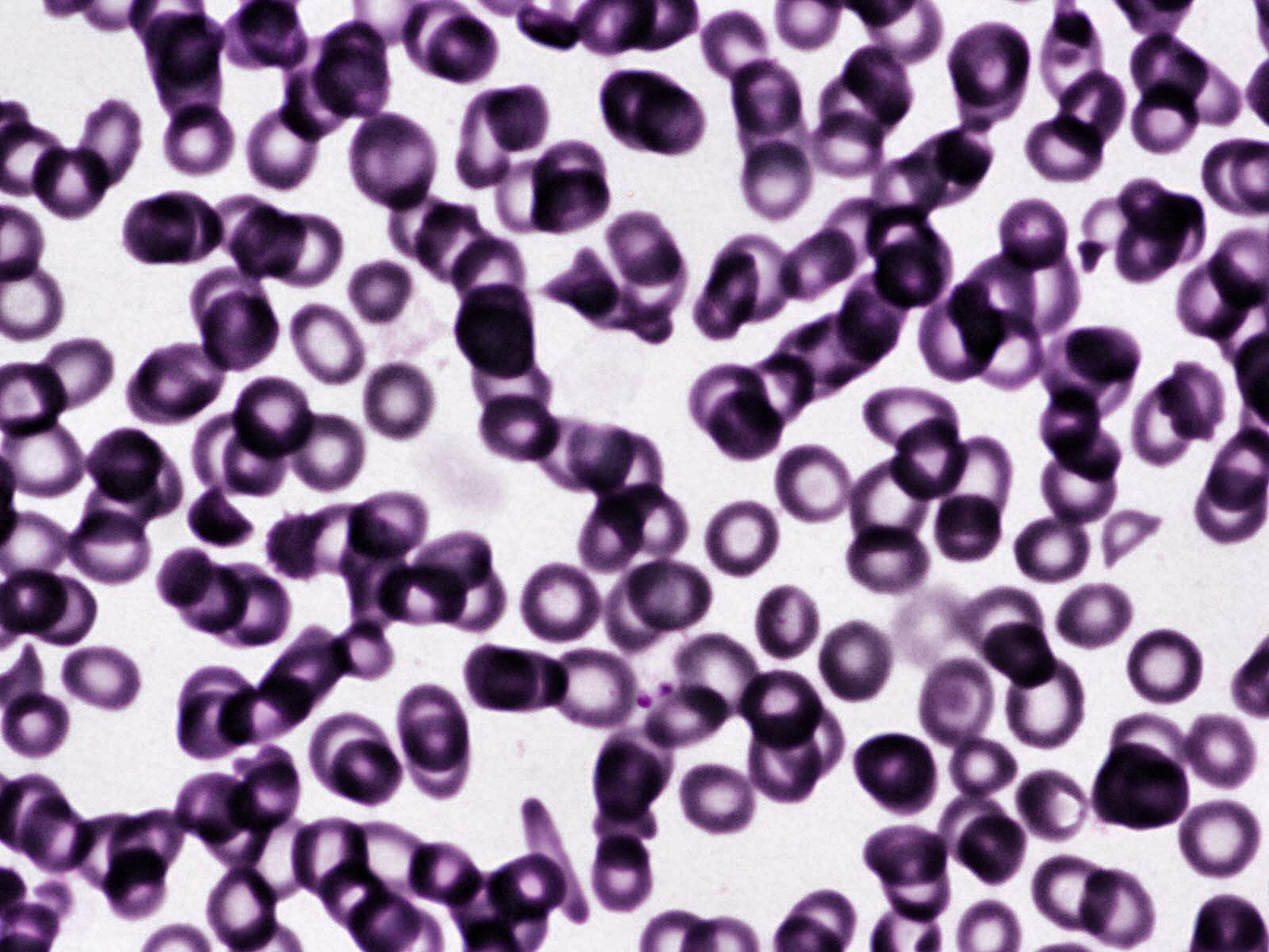Infected: (618, 625, 698, 715)
Uninfected: (346, 107, 438, 213), (918, 281, 1007, 386), (994, 238, 1083, 340), (1001, 651, 1087, 753), (1091, 742, 1191, 829), (194, 409, 288, 501), (950, 248, 1037, 346), (1174, 792, 1264, 883), (261, 631, 351, 722), (337, 822, 440, 901), (1033, 851, 1124, 940), (517, 559, 607, 648), (277, 406, 367, 495), (736, 132, 822, 225), (796, 308, 899, 385), (454, 282, 537, 377), (851, 730, 940, 818), (1037, 0, 1104, 115), (862, 386, 961, 463), (917, 658, 998, 752), (847, 458, 928, 551), (550, 644, 636, 731), (707, 235, 792, 323), (136, 336, 229, 416), (676, 633, 761, 720), (774, 440, 858, 528), (963, 304, 1045, 393), (205, 861, 286, 951), (592, 430, 663, 532), (228, 375, 316, 457), (286, 300, 367, 389), (816, 615, 896, 705), (939, 435, 1012, 533), (1175, 252, 1259, 337), (701, 496, 784, 582), (311, 709, 392, 797), (415, 200, 495, 289), (61, 509, 151, 588), (1018, 112, 1114, 186), (949, 21, 1031, 107), (287, 816, 367, 904), (845, 517, 928, 601), (2, 415, 85, 499), (243, 812, 317, 905), (358, 358, 437, 445), (739, 667, 822, 749), (1125, 626, 1206, 710), (190, 265, 270, 350), (454, 90, 524, 187), (585, 824, 663, 911), (216, 676, 317, 743), (1052, 67, 1125, 159), (109, 437, 187, 523), (477, 390, 566, 465), (677, 758, 759, 839), (31, 331, 115, 410), (734, 92, 811, 178), (814, 194, 890, 281), (1015, 767, 1098, 846), (960, 588, 1046, 664), (337, 520, 410, 609), (200, 292, 281, 372), (602, 67, 682, 148), (174, 773, 258, 850), (750, 711, 819, 804), (76, 812, 156, 892), (699, 10, 775, 94), (1159, 54, 1244, 129), (1111, 716, 1196, 791), (71, 98, 141, 189), (299, 501, 385, 575), (27, 144, 109, 221), (819, 69, 903, 144), (59, 642, 144, 716), (692, 360, 771, 439), (626, 559, 712, 631), (397, 684, 468, 771), (1054, 580, 1138, 653), (471, 347, 555, 420), (105, 808, 184, 885), (83, 466, 162, 543), (1115, 200, 1189, 282), (870, 151, 952, 225), (1129, 379, 1198, 466), (207, 566, 279, 649), (895, 418, 965, 503), (608, 211, 684, 289), (1132, 33, 1210, 109), (428, 555, 506, 631), (155, 40, 223, 127), (938, 788, 1011, 869), (731, 60, 798, 148), (606, 566, 673, 654), (1179, 715, 1262, 786), (312, 44, 389, 120), (739, 351, 815, 428), (1123, 83, 1201, 158), (1080, 870, 1155, 948), (907, 132, 986, 206), (709, 388, 785, 464), (1042, 447, 1117, 524), (225, 758, 303, 832), (751, 581, 822, 662), (881, 842, 952, 923), (247, 106, 317, 188), (695, 250, 758, 341), (595, 739, 663, 823), (450, 241, 526, 316), (780, 227, 857, 301), (776, 326, 850, 403), (181, 666, 258, 740), (404, 715, 471, 800), (928, 489, 1001, 567), (866, 203, 941, 278), (841, 270, 915, 346), (388, 187, 460, 265), (489, 850, 568, 921), (1045, 330, 1115, 410), (643, 684, 729, 749), (863, 823, 950, 887), (281, 65, 355, 140), (1193, 471, 1267, 546), (268, 214, 344, 287), (20, 798, 93, 874), (143, 10, 216, 86), (122, 196, 199, 268), (611, 484, 689, 555), (447, 869, 526, 939), (530, 165, 612, 232), (232, 209, 308, 281), (145, 190, 224, 259), (90, 426, 162, 501), (485, 651, 572, 713), (777, 704, 845, 783), (21, 575, 95, 647), (403, 0, 477, 72), (625, 244, 688, 328), (178, 689, 251, 761), (1010, 511, 1088, 578), (381, 564, 468, 624), (1160, 364, 1225, 444), (165, 103, 236, 176), (172, 560, 245, 631), (498, 159, 571, 230), (579, 497, 647, 573), (413, 530, 492, 595), (466, 642, 537, 714), (345, 254, 415, 326), (406, 843, 479, 912), (426, 14, 499, 83), (533, 137, 606, 206), (814, 110, 887, 179), (320, 862, 392, 931), (347, 493, 427, 555), (842, 47, 912, 117), (638, 87, 709, 156), (943, 735, 1015, 803), (996, 200, 1062, 274), (127, 359, 203, 423), (959, 816, 1029, 885), (225, 575, 292, 647), (330, 740, 402, 807), (321, 20, 386, 94), (877, 237, 945, 306), (986, 622, 1056, 689), (190, 482, 259, 549), (564, 424, 634, 489), (221, 2, 286, 72), (207, 194, 276, 259), (2, 693, 71, 758), (1144, 194, 1206, 265), (223, 428, 286, 497), (1052, 422, 1125, 481), (105, 847, 163, 921), (1066, 324, 1141, 381), (1115, 176, 1183, 237), (268, 513, 328, 581), (1041, 388, 1098, 459), (489, 86, 549, 152), (330, 619, 392, 678), (158, 547, 210, 611)
